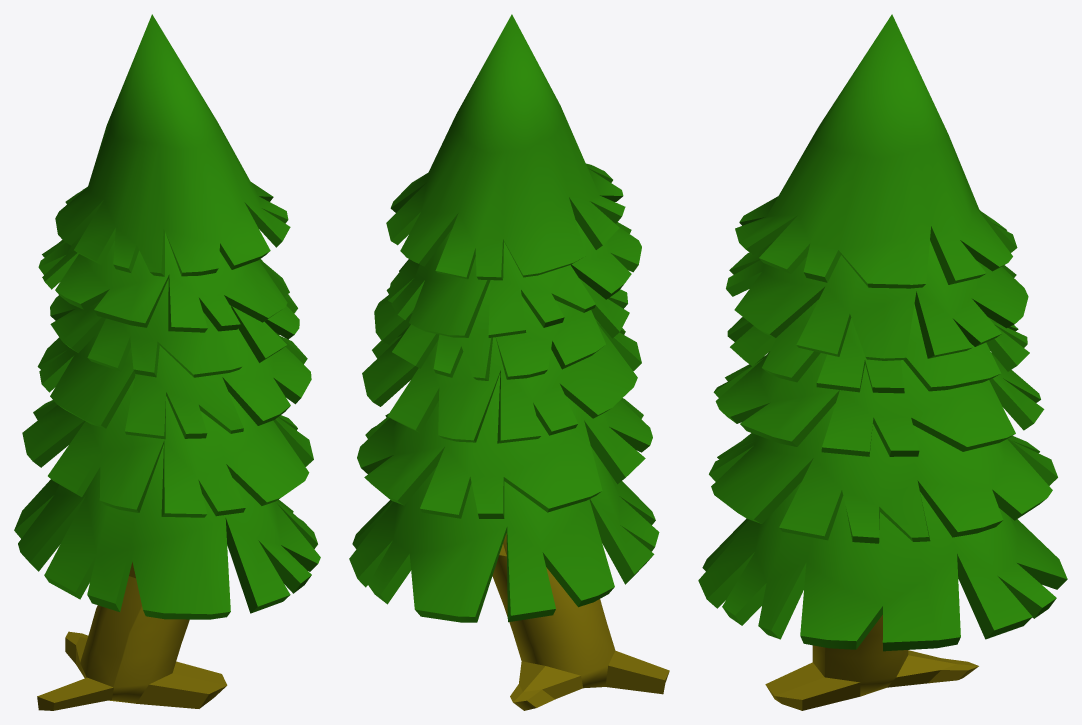
Rendered from Tree.fbx.
The picture shows the model from 3 angles, left to right: view 1: azimuth 30°, elevation 25°; view 2: azimuth 150°, elevation 25°; view 3: azimuth 270°, elevation 25°; orthographic projection. The views are drawn at different scales.
Visible parts, largest first — view 1: pCone7, pCone1, pCone3, pCone4, pCone6, TreeStump, pCone5; view 2: pCone7, pCone1, pCone3, pCone4, pCone6, pCone5, TreeStump; view 3: pCone7, pCone1, pCone3, pCone6, pCone4, pCone5, TreeStump.
Boxes of the visible parts, x1=… form: pCone7: x1=55, y1=14, x2=290, y2=276; pCone1: x1=14, y1=444, x2=320, y2=619; pCone3: x1=22, y1=378, x2=313, y2=517; pCone4: x1=37, y1=328, x2=311, y2=439; pCone6: x1=38, y1=231, x2=289, y2=332; TreeStump: x1=37, y1=562, x2=227, y2=710; pCone5: x1=50, y1=279, x2=299, y2=377; pCone7: x1=386, y1=14, x2=625, y2=280; pCone1: x1=349, y1=446, x2=659, y2=622; pCone3: x1=357, y1=373, x2=652, y2=518; pCone4: x1=362, y1=318, x2=641, y2=443; pCone6: x1=388, y1=220, x2=641, y2=337; pCone5: x1=374, y1=278, x2=629, y2=380; TreeStump: x1=492, y1=533, x2=669, y2=710; pCone7: x1=735, y1=14, x2=1017, y2=288; pCone1: x1=698, y1=482, x2=1067, y2=651; pCone3: x1=709, y1=403, x2=1057, y2=543; pCone6: x1=726, y1=240, x2=1028, y2=360; pCone4: x1=713, y1=351, x2=1044, y2=456; pCone5: x1=727, y1=299, x2=1029, y2=393; TreeStump: x1=765, y1=615, x2=978, y2=710.
Size of the model in its own units: 33.65 by 78.78 by 37.7.
